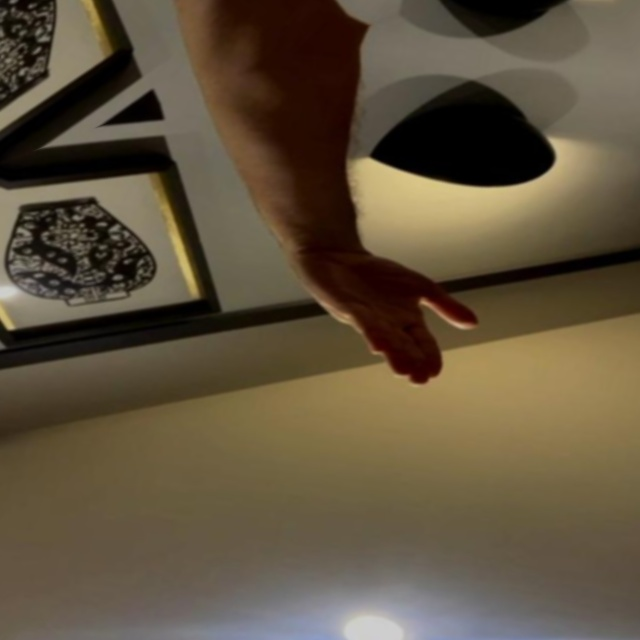Paper: (226, 175, 539, 459)
